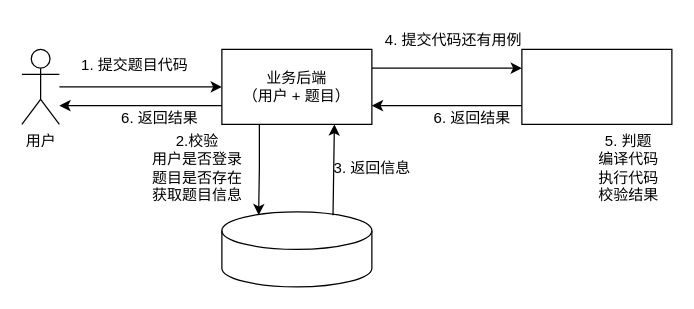
This 694x309 diagram has some shape labels left out. Each missing label, with the centre of its shape:
"判题模块" goes at point 596,86.
"数据库" goes at point 296,249.
